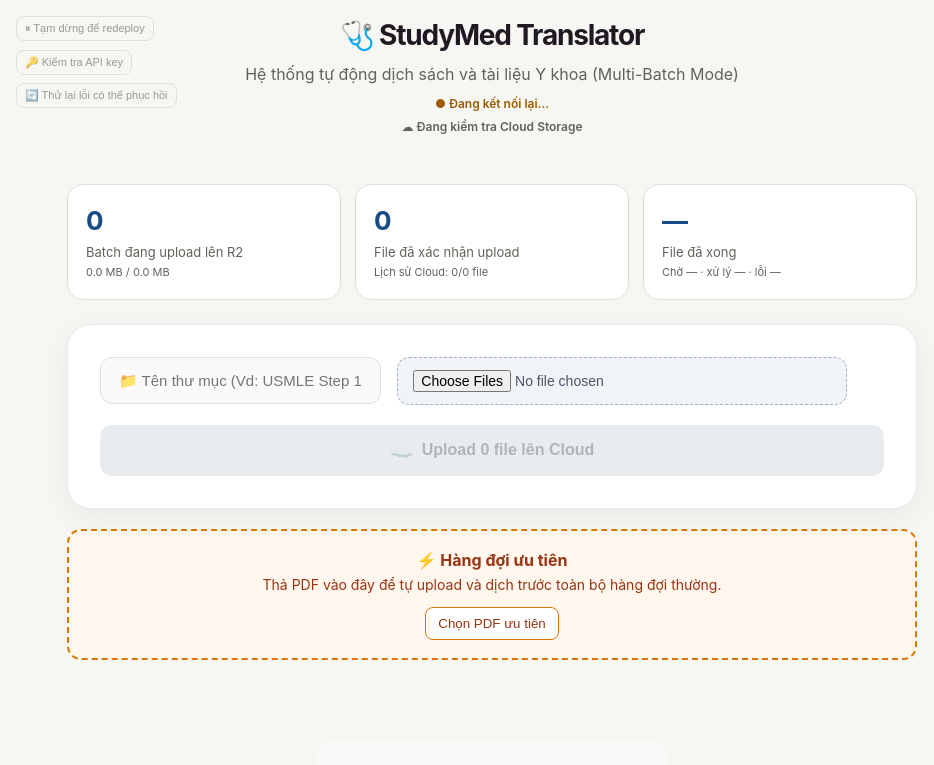
Test: App Cloud Uploader › pauses new job claims for redeploy from the subtle header control
Click the button "⏸ Tạm dừng để redeploy". click: (85, 28)
box: [16,16,154,41]
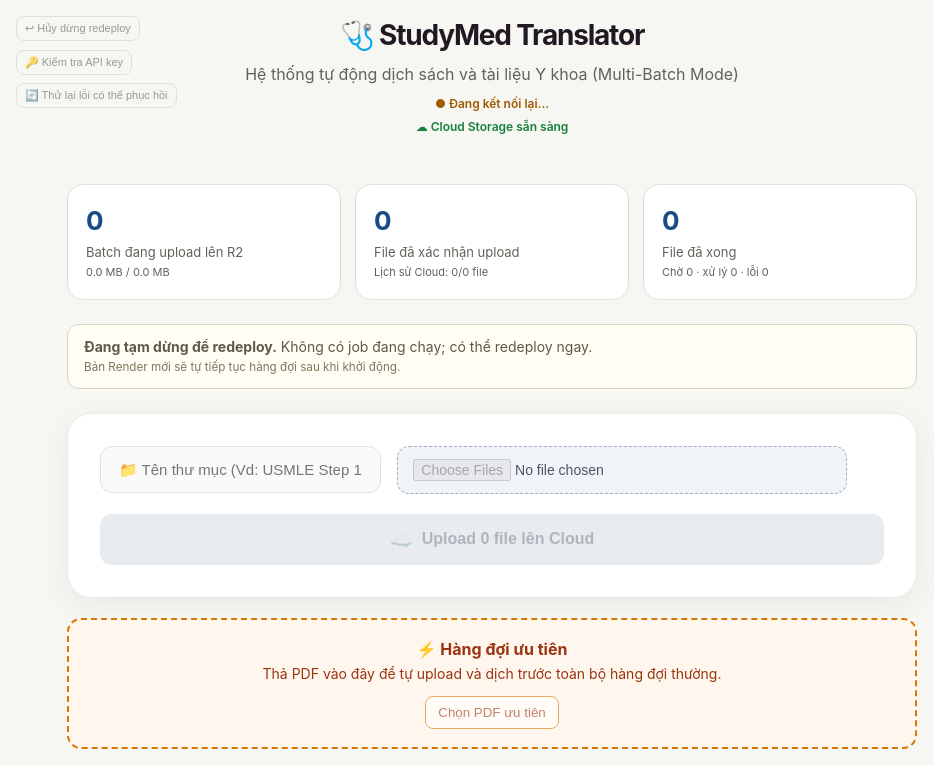
Now the text "Không có job đang chạy; có thể redeploy ngay" is shown, box [281,338,592,355]
